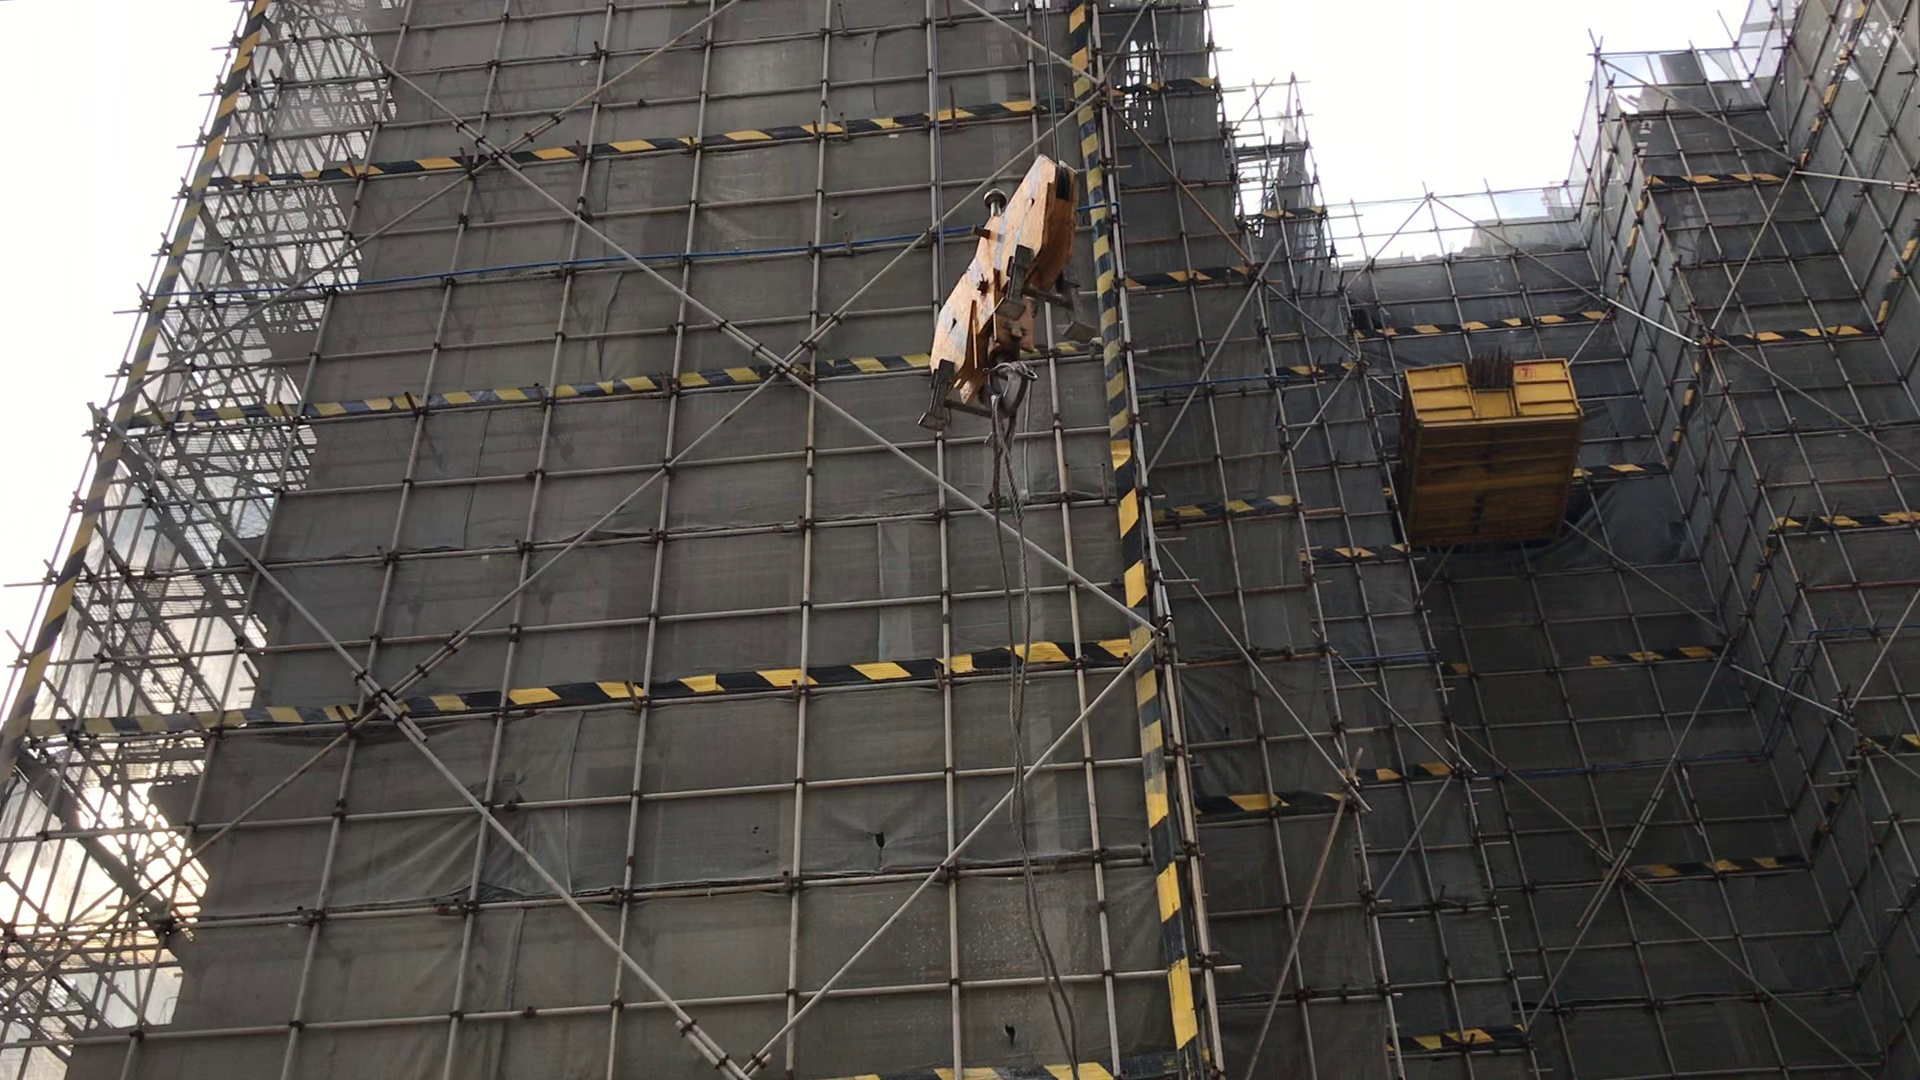hook: (889, 160, 1116, 389)
